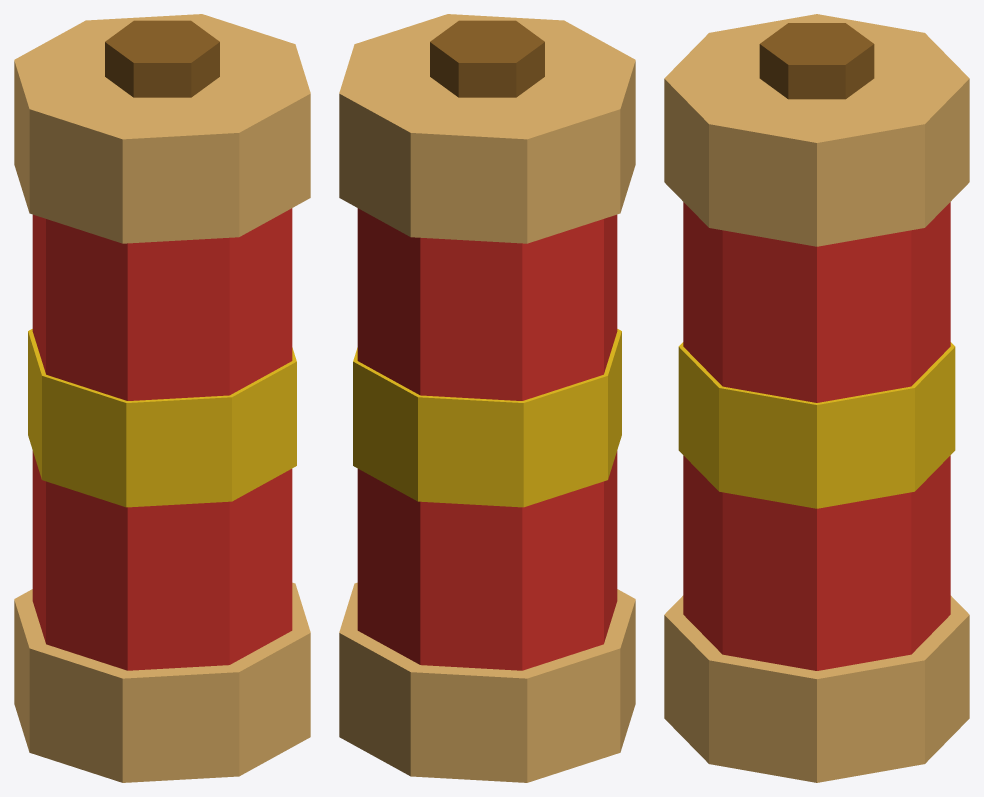
The model's file is SM_ExternalFuse.fbx.
3 views of the same model, side by side, from view 1: azimuth 30°, elevation 25°; view 2: azimuth 150°, elevation 25°; view 3: azimuth 270°, elevation 25° (orthographic).
Parts seen in each view (by area): view 1: ExternalFuse_Body; view 2: ExternalFuse_Body; view 3: ExternalFuse_Body.
Boxes of the visible parts, x1,y1,x2,y2 form: ExternalFuse_Body: (14, 14, 310, 782); ExternalFuse_Body: (339, 14, 635, 782); ExternalFuse_Body: (664, 14, 969, 782).
Bounding box in the file's own units: 0.032 × 0.082 × 0.032.
1 material, 1 textured.
